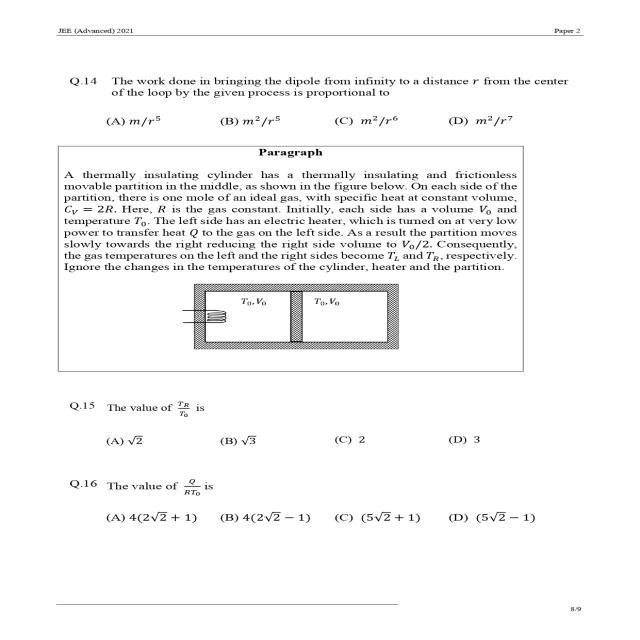Answer_Block: (29, 425, 592, 463), (29, 503, 592, 536), (29, 104, 592, 136)
Question_Answer_Block: (29, 51, 592, 136), (29, 386, 592, 463), (29, 468, 592, 536)
Question_Block: (29, 51, 592, 100), (29, 386, 592, 424), (29, 468, 592, 502)
Question_Paper_Area: (29, 52, 592, 580)
